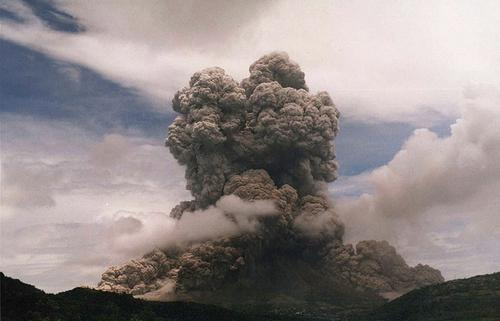smoke: (161, 67, 370, 307)
